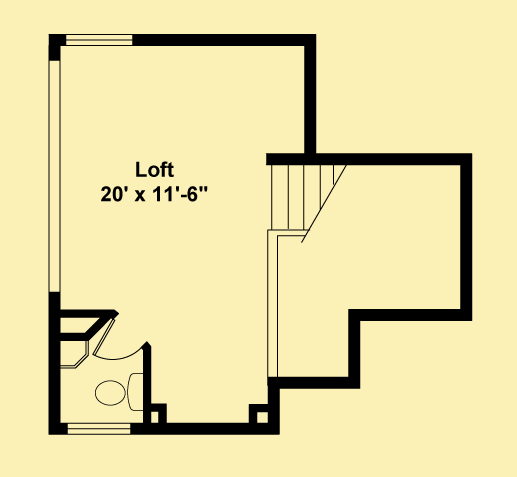door: (91, 316, 145, 364)
large_sink: (89, 372, 145, 415)
stairs: (261, 154, 349, 240)
window: (62, 31, 136, 49), (64, 421, 134, 439)
